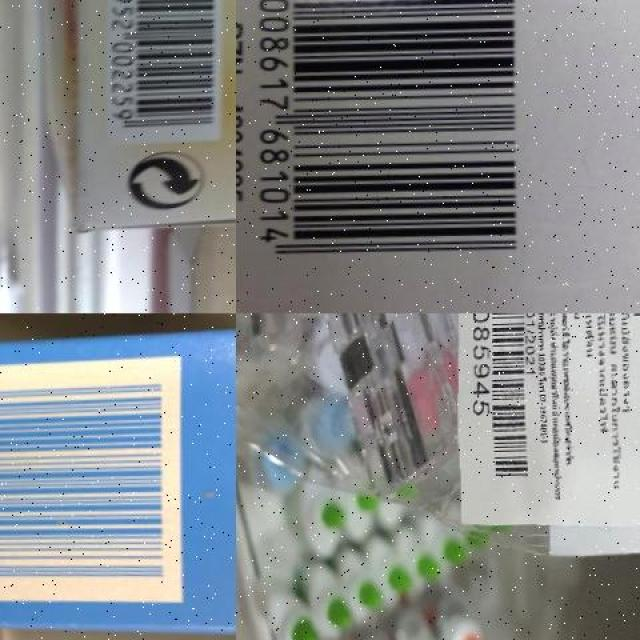Barcode: (244, 0, 531, 287), (0, 357, 181, 610), (97, 0, 224, 147), (466, 313, 530, 491)
